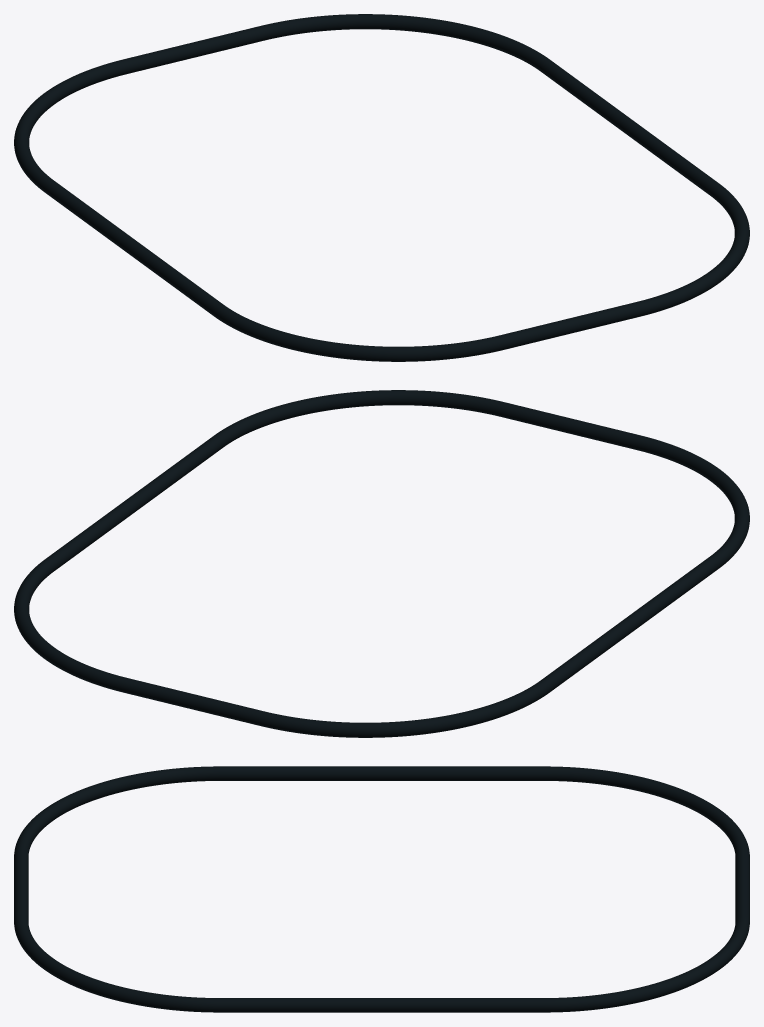
Rendered from SM_Ceiling02.fbx.
The picture shows the model from 3 angles, top to bottom: view 1: azimuth 30°, elevation 25°; view 2: azimuth 150°, elevation 25°; view 3: azimuth 270°, elevation 25°; orthographic projection. The views are drawn at different scales.
Parts seen in each view (by area): view 1: SM_Ceiling02; view 2: SM_Ceiling02; view 3: SM_Ceiling02.
Part boxes in pixels (x1=…): SM_Ceiling02: x1=14, y1=14, x2=749, y2=361; SM_Ceiling02: x1=14, y1=390, x2=749, y2=737; SM_Ceiling02: x1=14, y1=766, x2=749, y2=1012.
Bounding box in the file's own units: 8655 × 224 × 11323.
